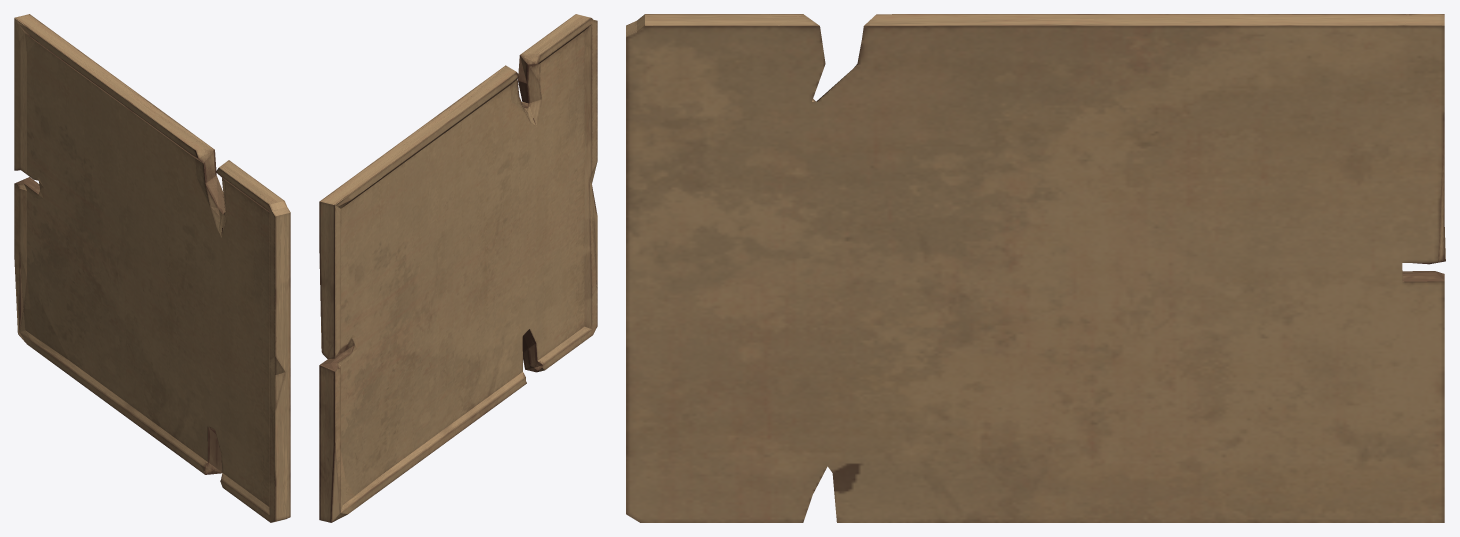
File: Long Tablet .fbx
3 views of the same model, side by side, from view 1: azimuth 30°, elevation 25°; view 2: azimuth 150°, elevation 25°; view 3: azimuth 270°, elevation 25° (orthographic). The views are drawn at different scales.
Parts seen in each view (by area): view 1: Cube; view 2: Cube; view 3: Cube.
Boxes of the visible parts, x1,y1,x2,y2 form: Cube: (14,14,290,522); Cube: (319,14,597,522); Cube: (626,14,1445,522).
Size of the model in its own units: 22.72 by 438 by 655.
Materials: 1 (1 with a texture image).
